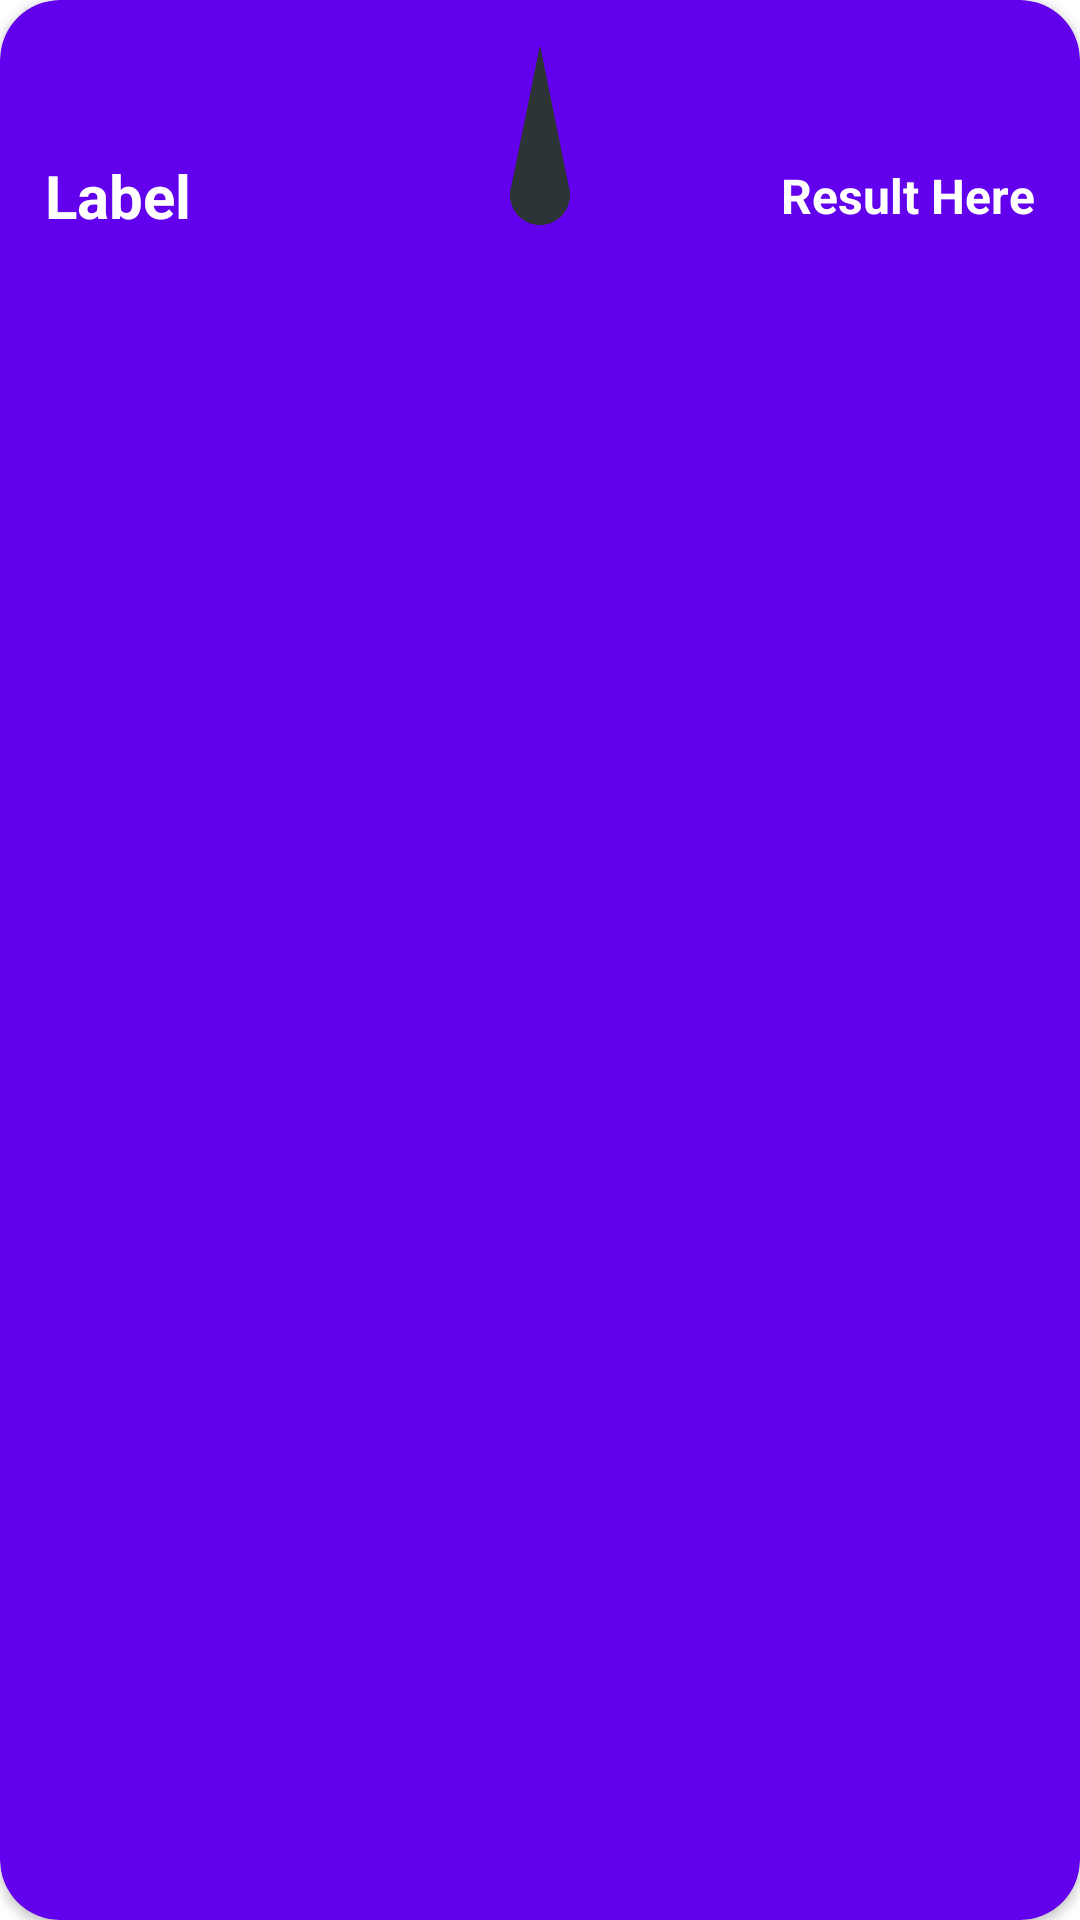

Where icons sit on this 1080×1920 app screen, as (x1, y1, x2, y2):
pointer: (510, 47, 570, 225)
